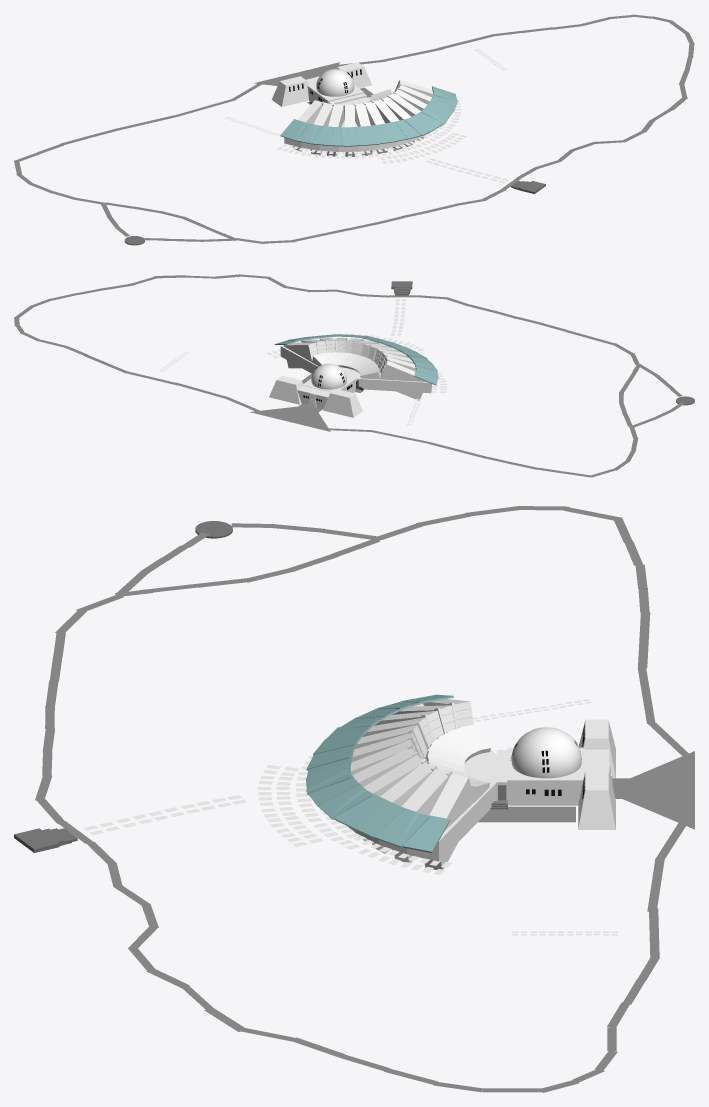
File: asmundarsafn_nyasta_utgafa_18.41.obj
The picture shows the model from 3 angles, top to bottom: view 1: azimuth 30°, elevation 25°; view 2: azimuth 150°, elevation 25°; view 3: azimuth 270°, elevation 25°; orthographic projection. The views are drawn at different scales.
Visible parts, largest first — view 1: Plane.001, Cube.047, Cube.033, syningarsalur, Sphere, h_hlid, v_hlid, innanhus; view 2: Plane.001, Cube.033, syningarsalur, Cube.047, h_hlid, Sphere, v_hlid, adaldyr; view 3: Plane.001, Cube.033, Cube.047, Sphere, syningarsalur, innanhus, v_hlid, h_hlid.
Part boxes in pixels (box(x1,y1,x2,y2)): Plane.001: box(14, 14, 694, 245); Cube.047: box(280, 86, 457, 146); Cube.033: box(293, 80, 433, 156); syningarsalur: box(284, 97, 429, 151); Sphere: box(316, 69, 354, 96); h_hlid: box(271, 76, 308, 106); v_hlid: box(336, 62, 371, 88); innanhus: box(307, 83, 364, 103); Plane.001: box(14, 274, 694, 477); Cube.033: box(283, 337, 426, 400); syningarsalur: box(280, 338, 431, 393); Cube.047: box(274, 334, 438, 385); h_hlid: box(323, 389, 362, 417); Sphere: box(311, 363, 346, 389); v_hlid: box(269, 376, 303, 404); adaldyr: box(297, 385, 330, 408); Plane.001: box(14, 506, 694, 1092); Cube.033: box(350, 699, 490, 869); Cube.047: box(305, 694, 453, 852); Sphere: box(511, 727, 581, 778); syningarsalur: box(347, 704, 496, 861); innanhus: box(507, 747, 584, 805); v_hlid: box(578, 771, 615, 829); h_hlid: box(578, 719, 615, 778).
Size of the model in its own units: 148 by 8.94 by 72.34.
